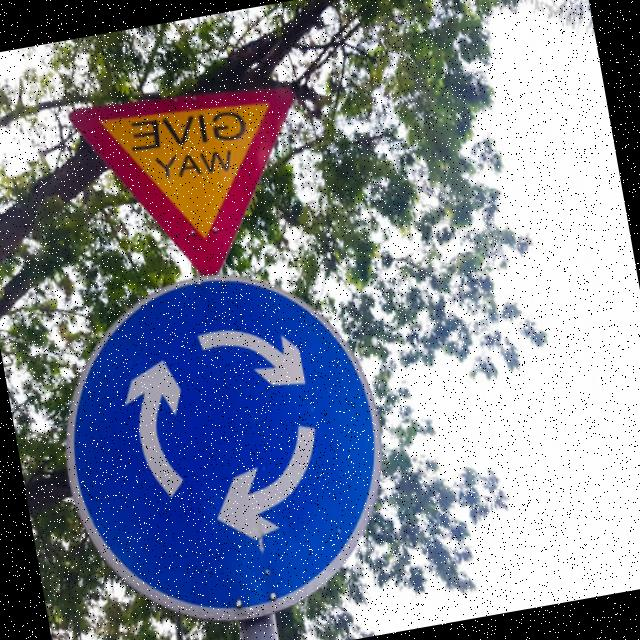round_about: (36, 250, 407, 637)
